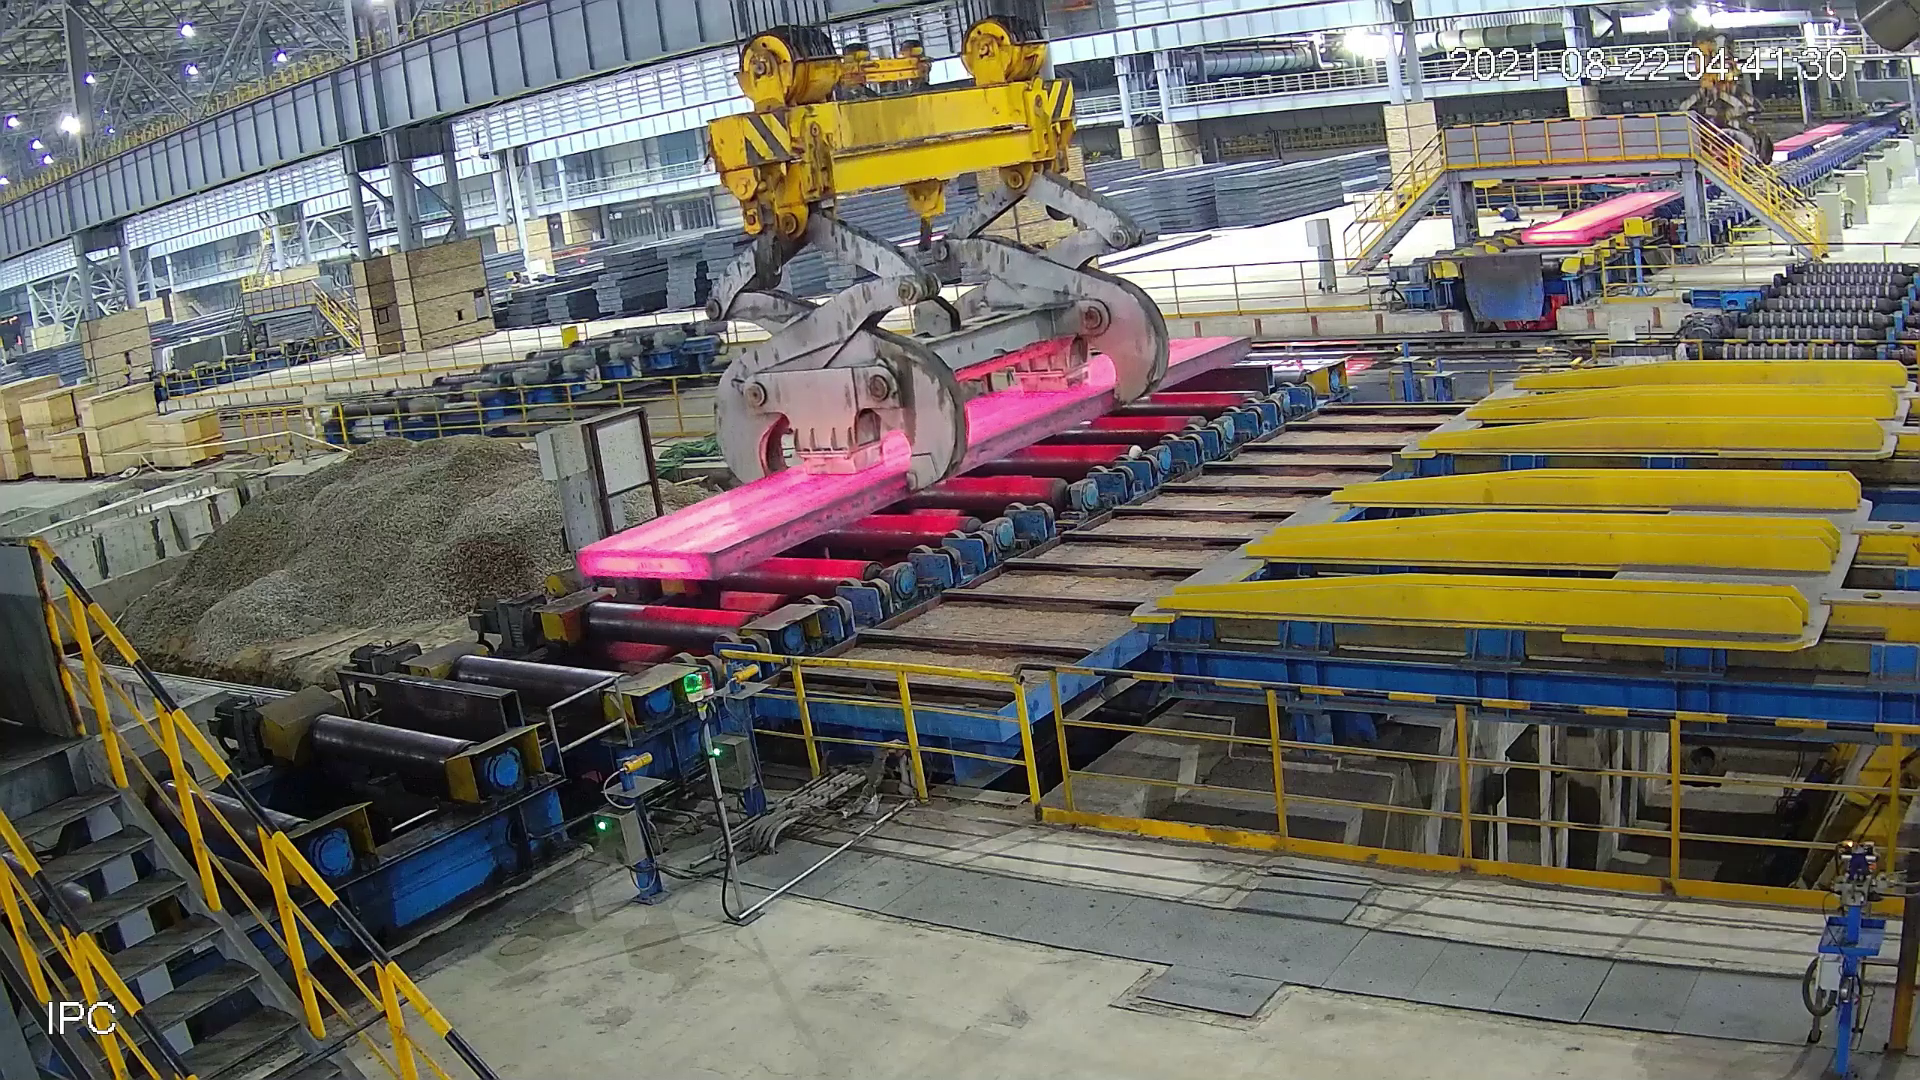craneandslab: (555, 1, 1254, 592)
slab: (1520, 189, 1684, 244)
